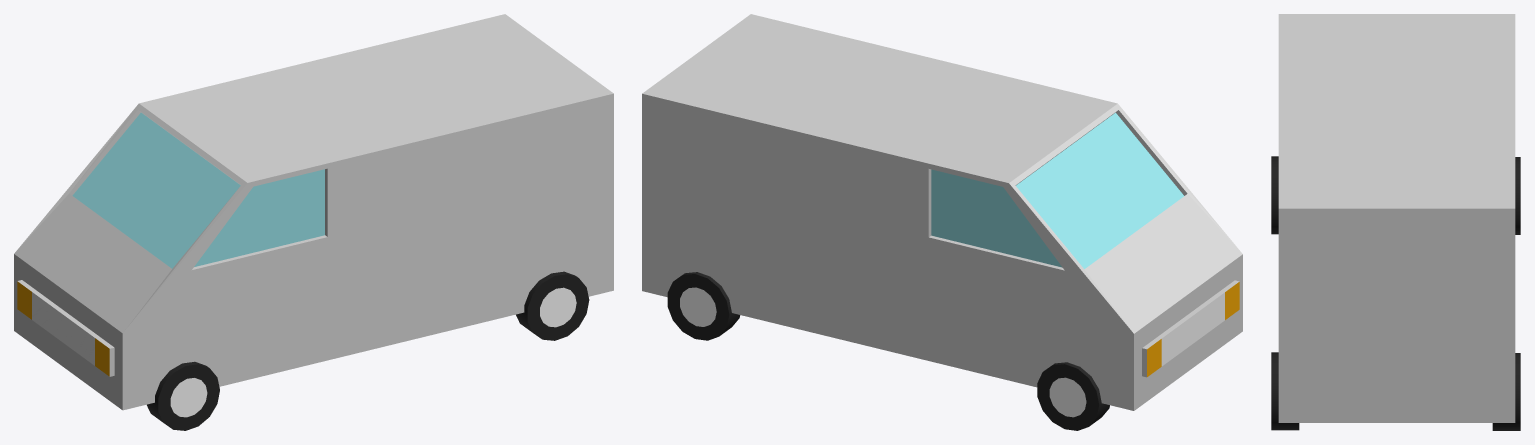
File: transit.FBX
The picture shows the model from 3 angles, left to right: view 1: azimuth 30°, elevation 25°; view 2: azimuth 150°, elevation 25°; view 3: azimuth 270°, elevation 25°; orthographic projection. The views are drawn at different scales.
Visible parts, largest first — view 1: Box01, Cylinder26, Cylinder27; view 2: Box01, Cylinder24, Cylinder25; view 3: Box01, Cylinder27, Cylinder24, Cylinder26, Cylinder25.
Part boxes in pixels (x1,y1,x2,y2): Box01: (14,14,613,410); Cylinder26: (147,361,219,430); Cylinder27: (516,271,589,340); Box01: (642,14,1242,410); Cylinder24: (667,272,740,340); Cylinder25: (1037,362,1109,430); Box01: (1278,14,1515,422); Cylinder27: (1271,352,1299,430); Cylinder24: (1492,353,1520,430); Cylinder26: (1271,156,1278,234); Cylinder25: (1515,157,1520,234).
Size of the model in its own units: 79.03 by 34.95 by 31.64.
